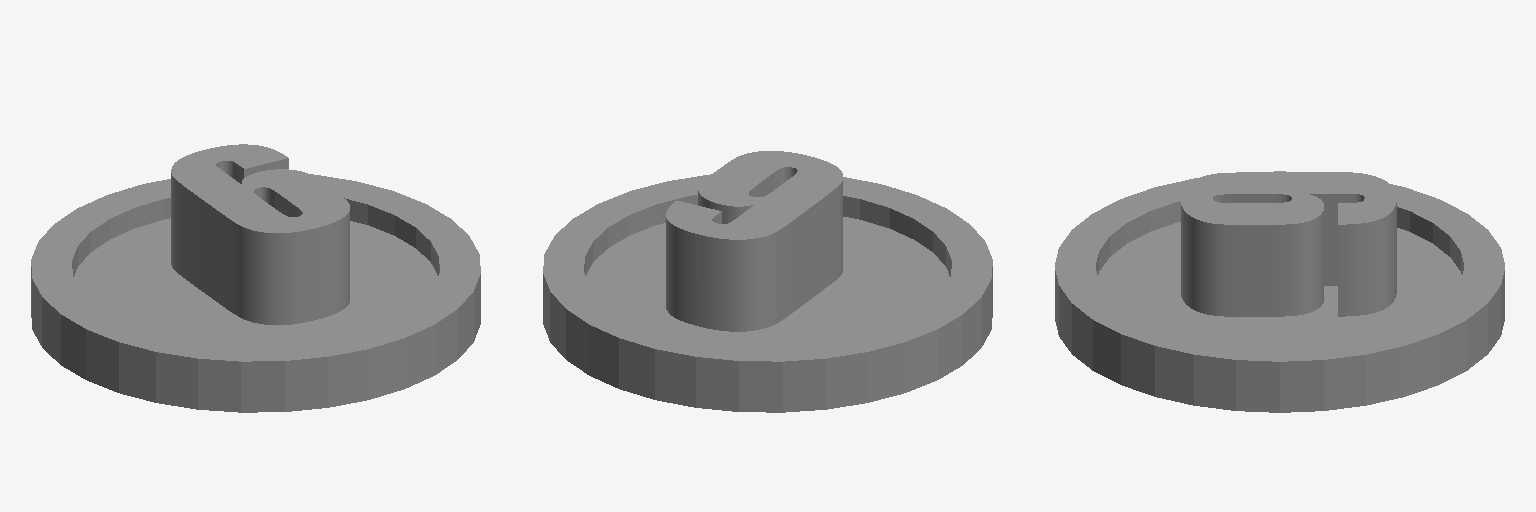
Rendered from advisor_piece.obj.
3 renders of one model, left to right at view 1: azimuth 30°, elevation 25°; view 2: azimuth 150°, elevation 25°; view 3: azimuth 270°, elevation 25°, orthographic.
Parts seen in each view (by area): view 1: Cylinder; view 2: Cylinder; view 3: Cylinder.
Part boxes in pixels (x1,y1,x2,y2): Cylinder: (31,144,480,412); Cylinder: (543,151,992,412); Cylinder: (1055,171,1504,412).
Size of the model in its own units: 8 by 2.41 by 8.